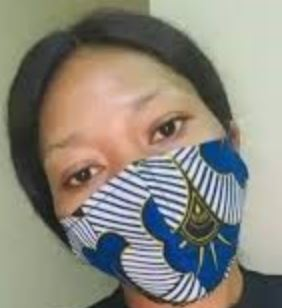with_facemask: (84, 159, 237, 267)
